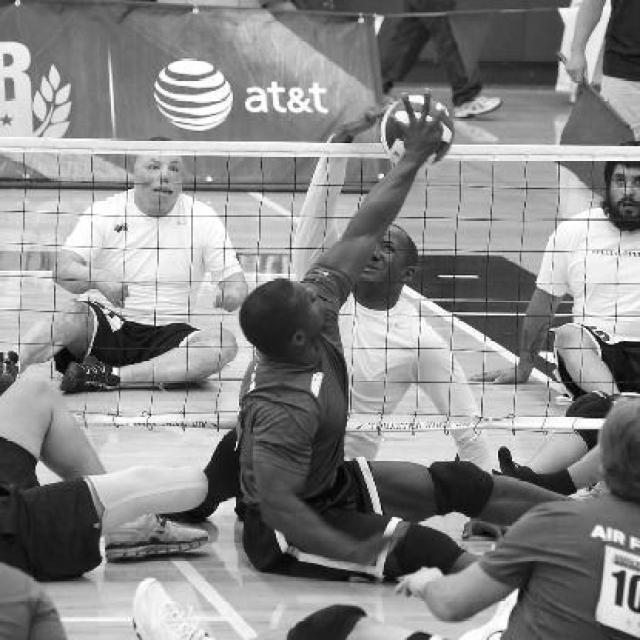volleyball: (382, 94, 454, 164)
